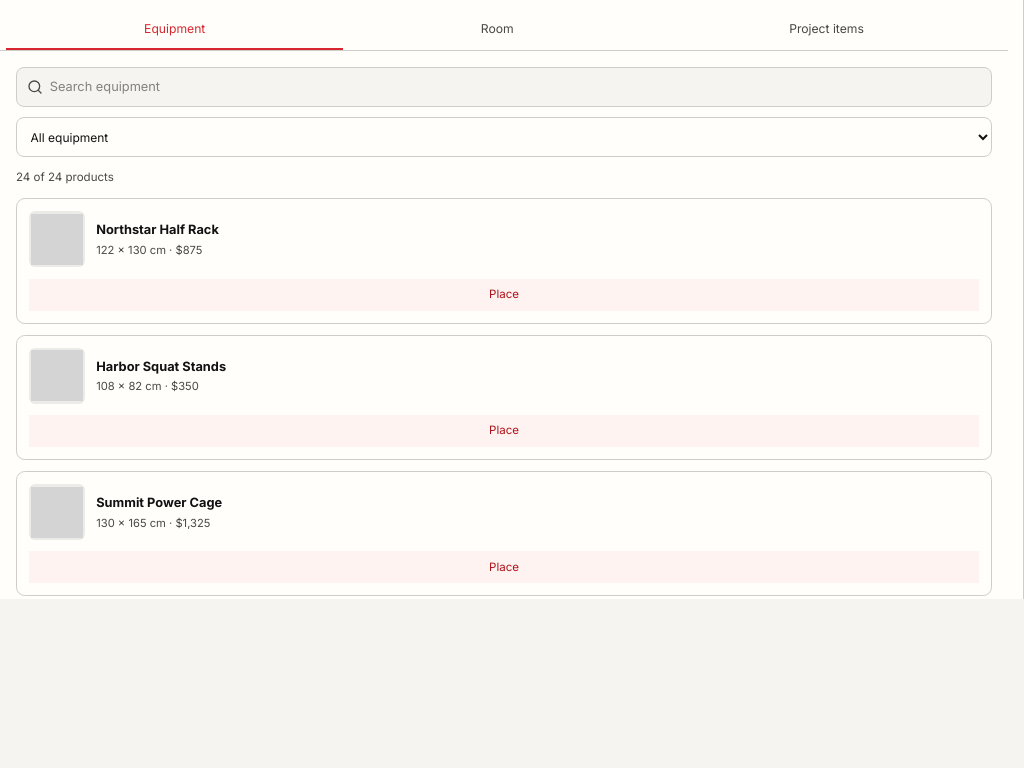
ElementPanel workspace tabs › preserves the mounted catalog search and category when switching tabs
The image size is (1024, 768).
Type "pivot" into the search field labelled "Search equipment" at (516, 87), box [50,77,981,96]
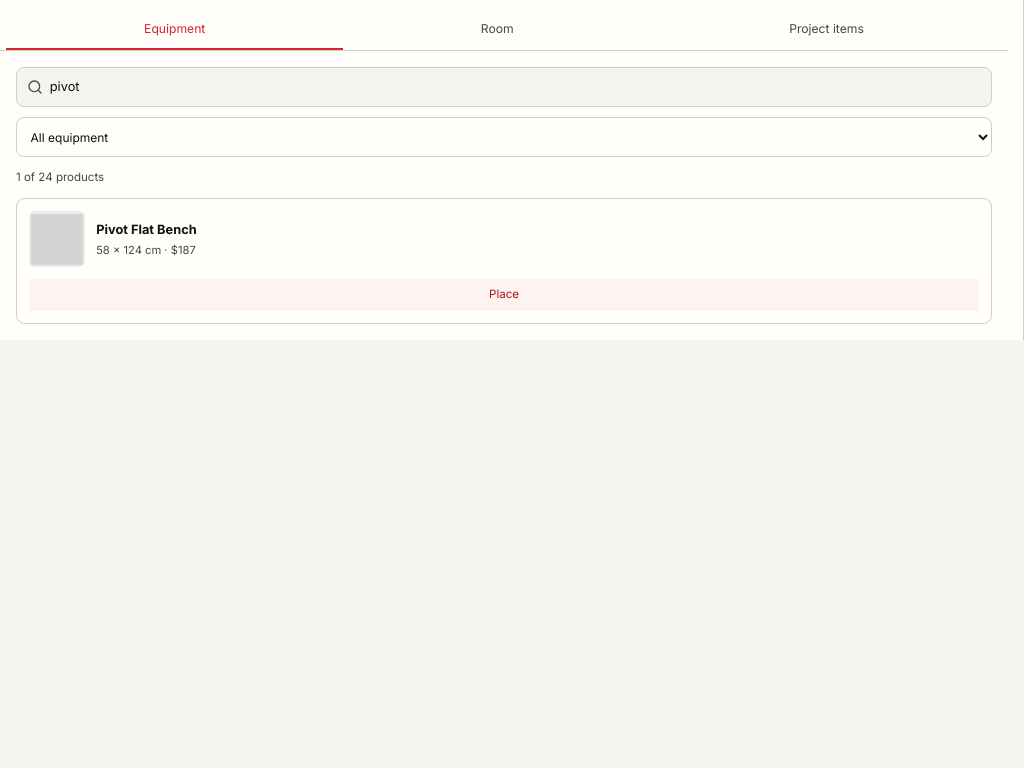
Select "Benches" in the dropdown named "Equipment category" at (504, 137), box [16,117,992,157]
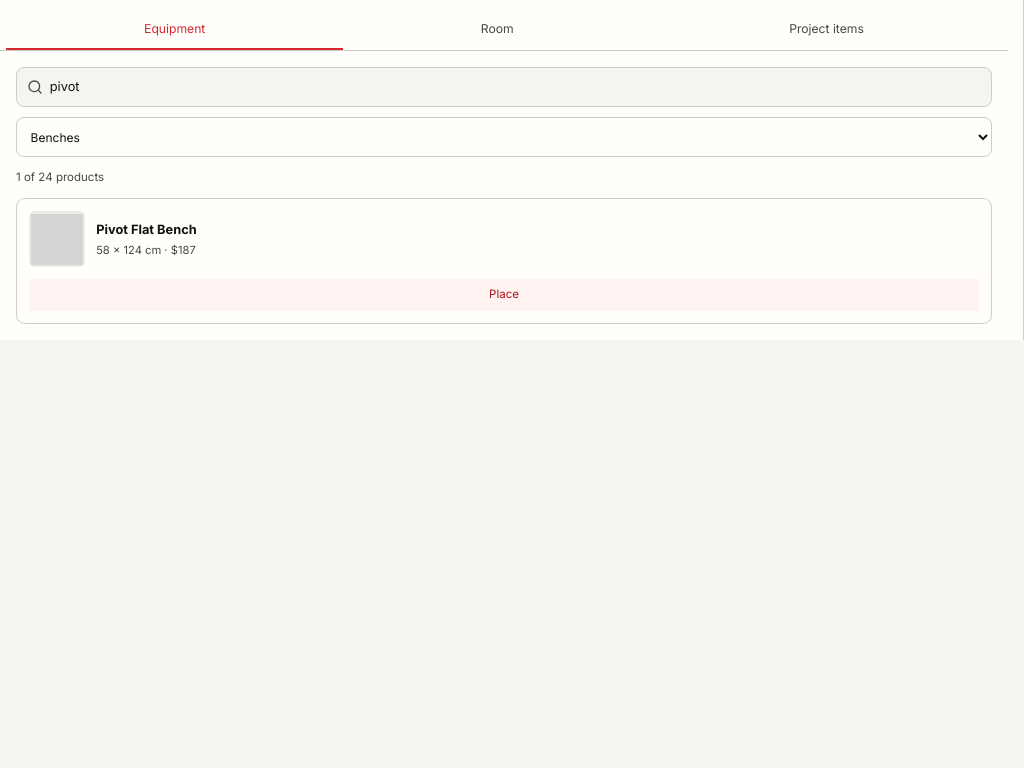
Click the tab "Room" at (497, 30), box [343,10,651,50]
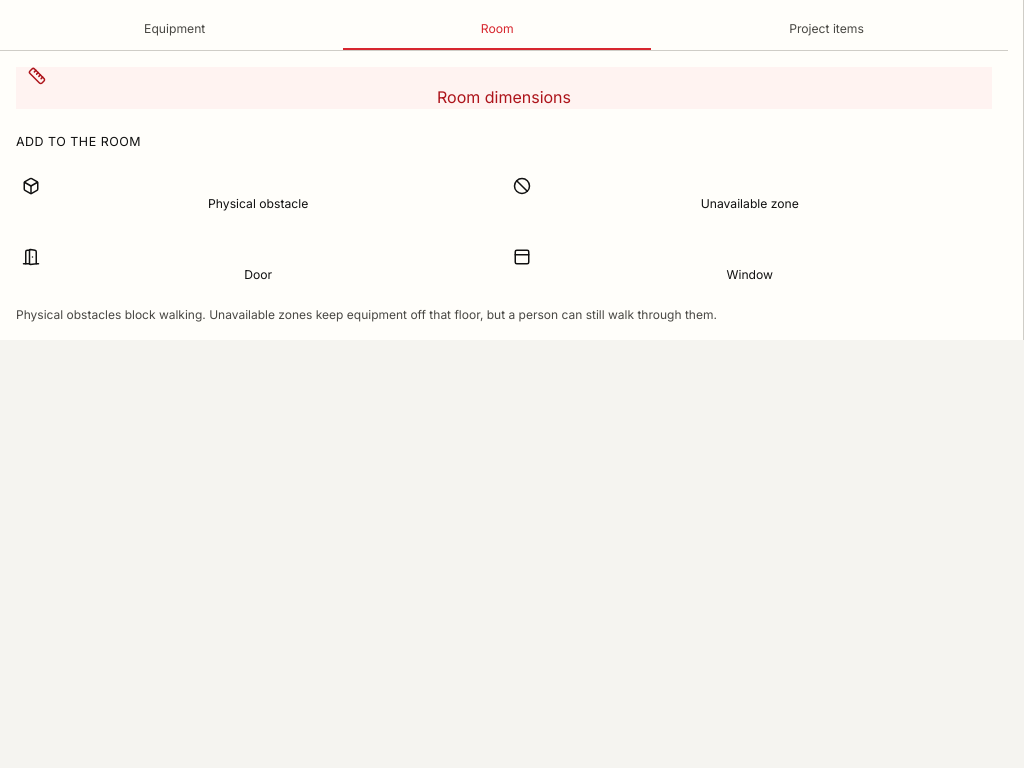
Click the tab "Equipment" at (175, 30), box [6,10,343,50]
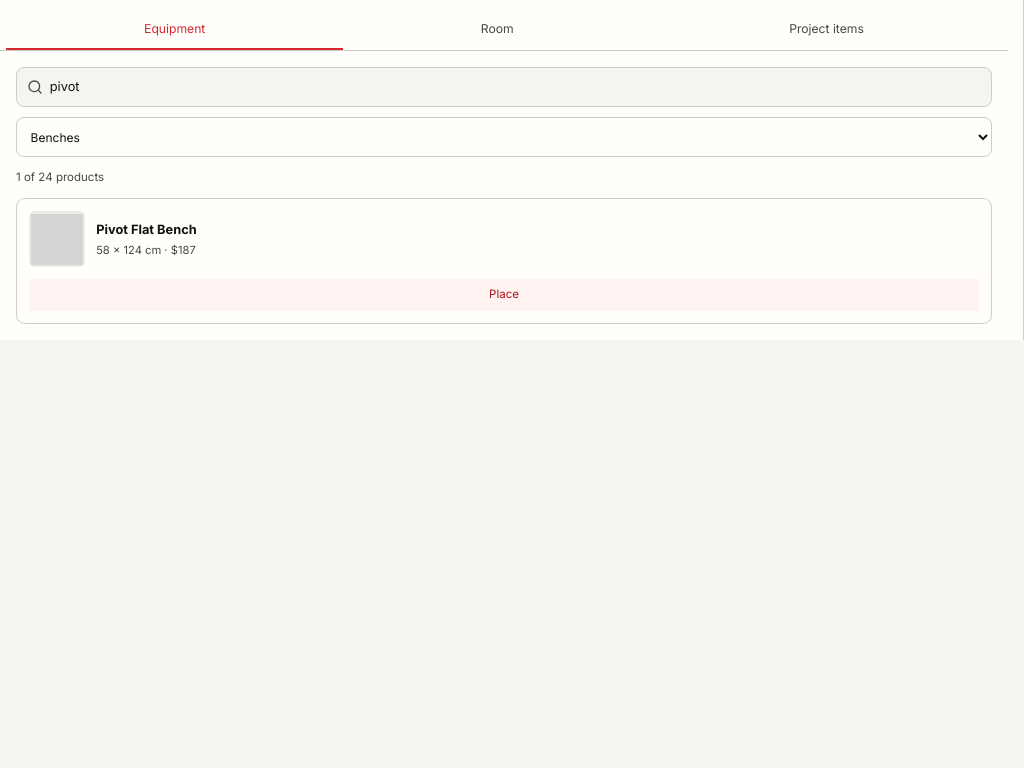
Now the button with aria-label "Place Pivot Flat Bench" is shown, box [29,279,979,311]
